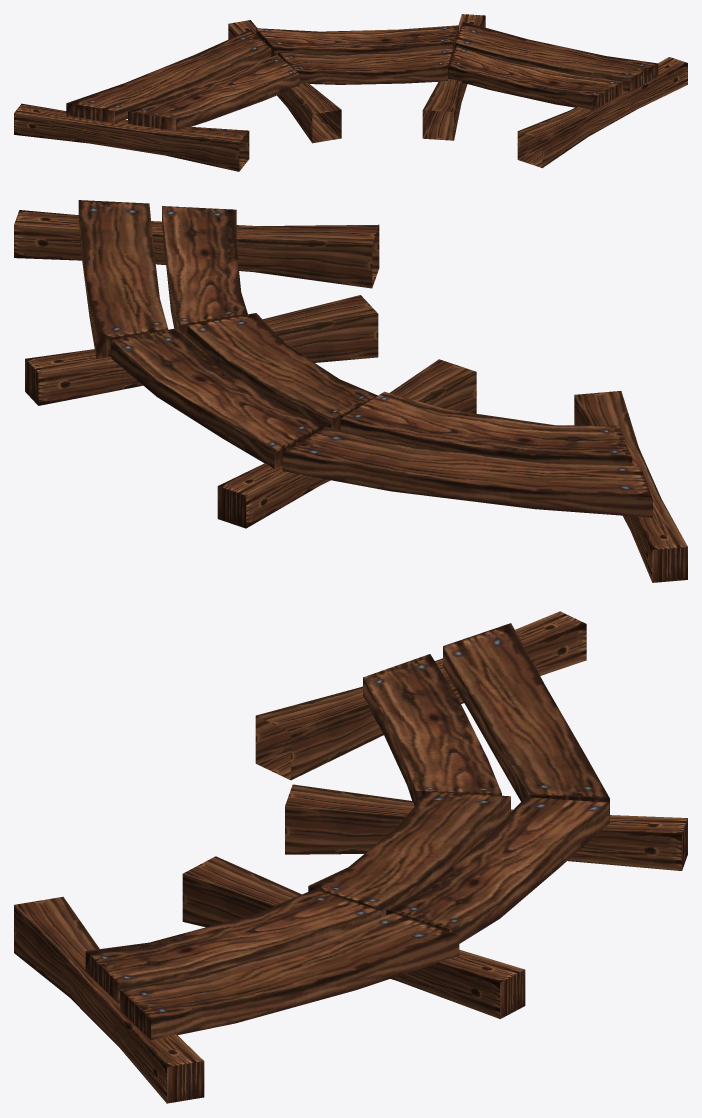
The model's file is OVERHILL_A_01_WOOD_BOARD_45.fbx.
3 views of the same model, one above another, from view 1: azimuth 30°, elevation 25°; view 2: azimuth 150°, elevation 25°; view 3: azimuth 270°, elevation 25° (orthographic). The views are drawn at different scales.
Parts seen in each view (by area): view 1: OVERHILL_A_01_WOOD_BOARD_45; view 2: OVERHILL_A_01_WOOD_BOARD_45; view 3: OVERHILL_A_01_WOOD_BOARD_45.
Boxes of the visible parts, x1,y1,x2,y2 form: OVERHILL_A_01_WOOD_BOARD_45: [14, 14, 687, 171]; OVERHILL_A_01_WOOD_BOARD_45: [14, 200, 687, 582]; OVERHILL_A_01_WOOD_BOARD_45: [14, 611, 687, 1103].
Size of the model in its own units: 45210 by 2839 by 28239.
Materials: 3 (3 with a texture image).
